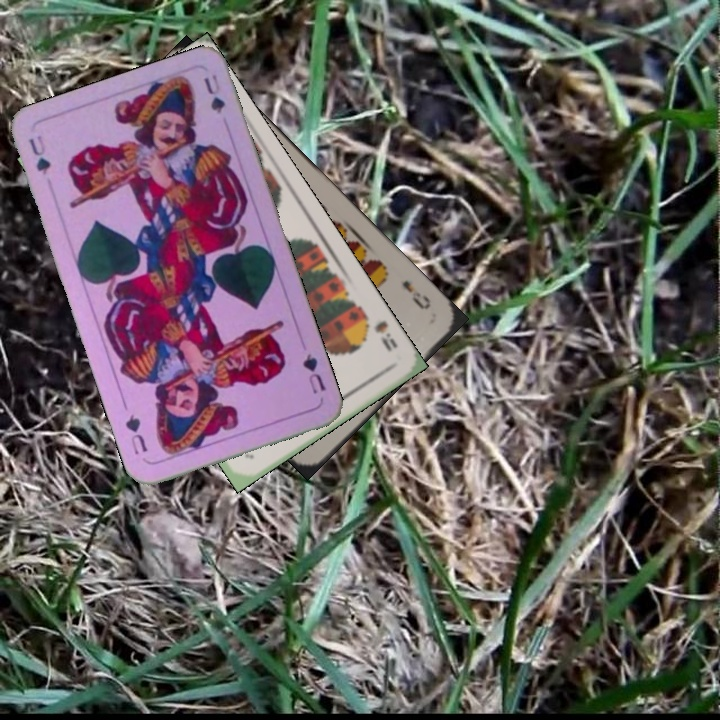E9: (397, 276, 434, 312)
GU: (298, 349, 329, 396), (24, 131, 53, 177)
S9: (359, 307, 400, 354)
